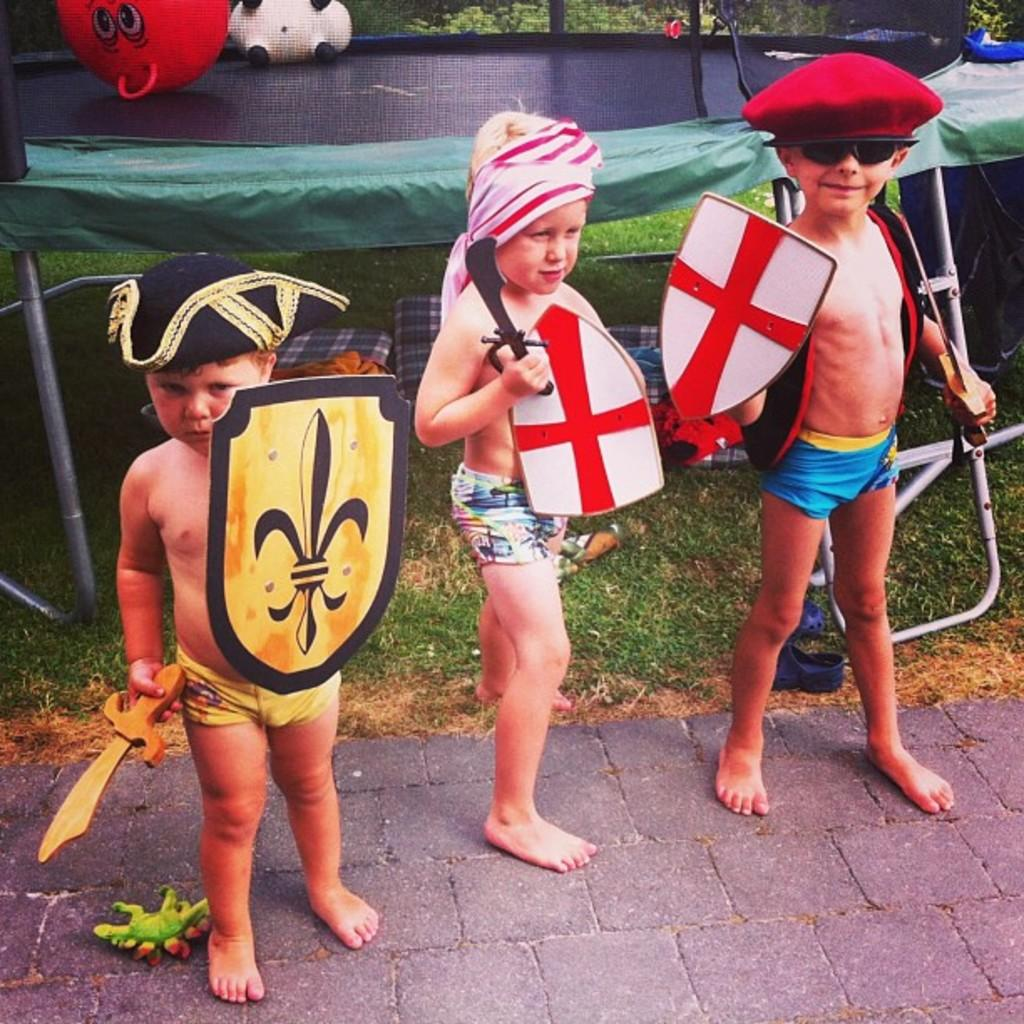Hat: (105, 252, 348, 376), (736, 52, 942, 148)
